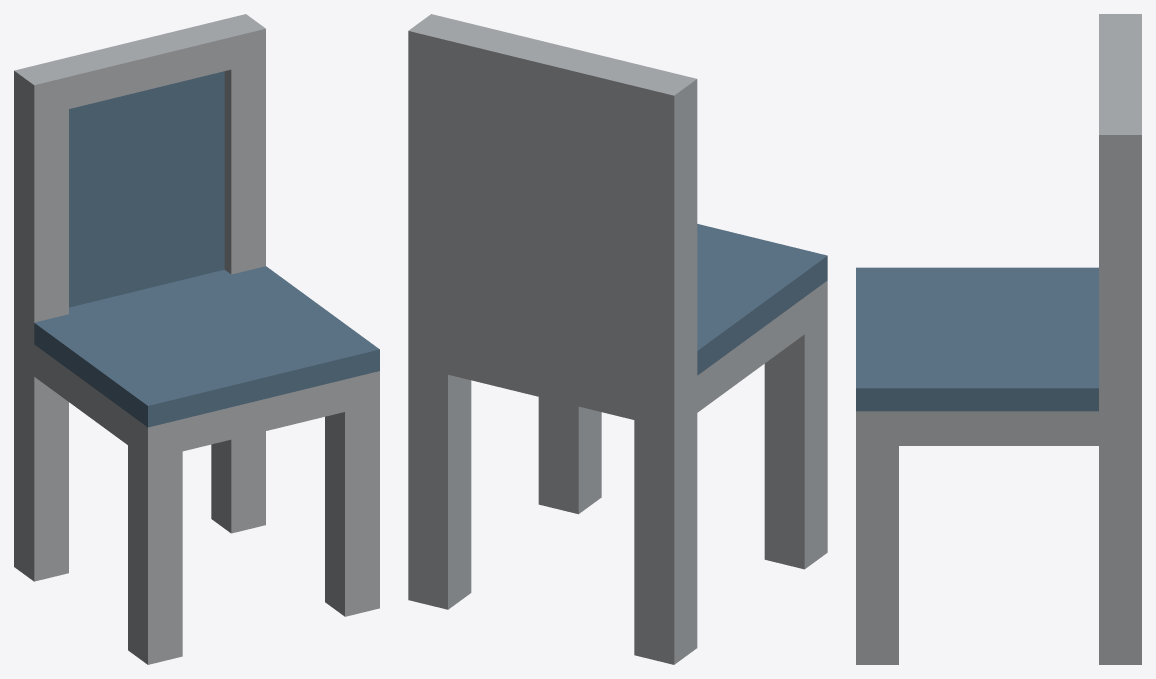
Rendered from chair_modern.glb.
3 views of the same model, side by side, from view 1: azimuth 30°, elevation 25°; view 2: azimuth 150°, elevation 25°; view 3: azimuth 270°, elevation 25° (orthographic). The views are drawn at different scales.
Parts seen in each view (by area): view 1: chair_modern; view 2: chair_modern; view 3: chair_modern.
Part boxes in pixels (x1,y1,x2,y2): chair_modern: [14, 14, 379, 664]; chair_modern: [408, 14, 827, 664]; chair_modern: [856, 14, 1141, 664].
Bounding box in the file's own units: 0.44 × 0.9 × 0.44.
